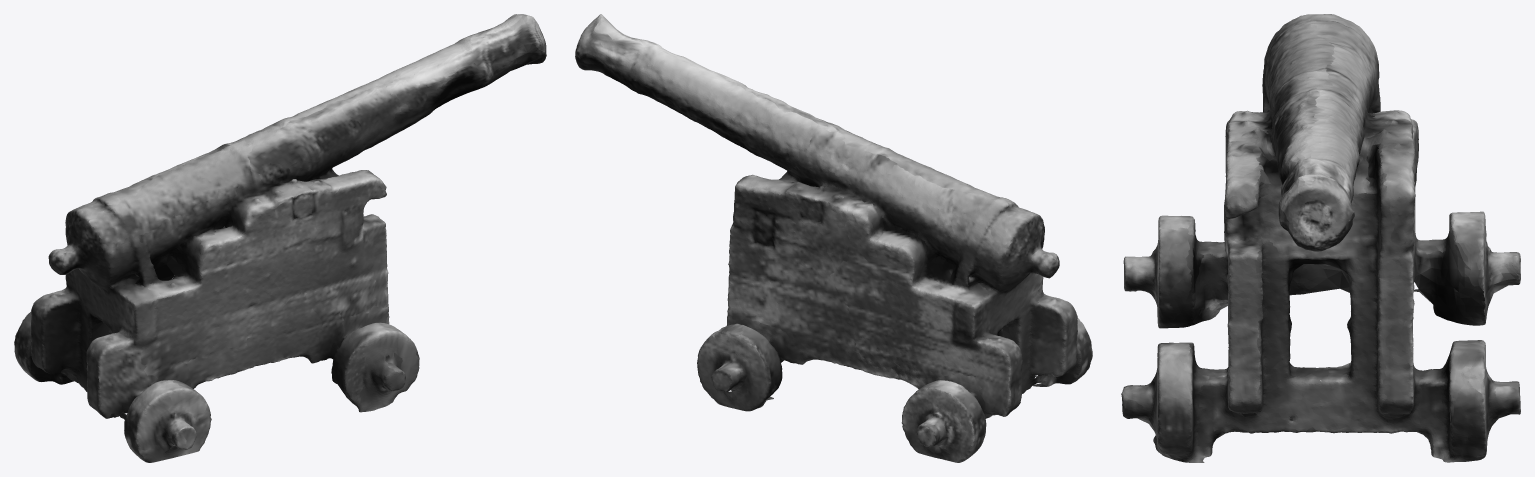
Rendered from cannon.glb.
3 views of the same model, side by side, from view 1: azimuth 30°, elevation 25°; view 2: azimuth 150°, elevation 25°; view 3: azimuth 270°, elevation 25° (orthographic). The views are drawn at different scales.
Parts seen in each view (by area): view 1: mesh; view 2: mesh; view 3: mesh.
Boxes of the visible parts, x1,y1,x2,y2 form: mesh: (14,14,546,462); mesh: (575,14,1092,462); mesh: (1121,14,1520,462).
Size of the model in its own units: 2.09 by 1.24 by 1.11.
Materials: 1 (1 with a texture image).
